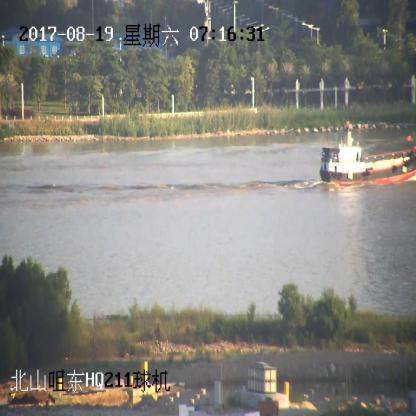Fishing Boat: (322, 126, 416, 188)
